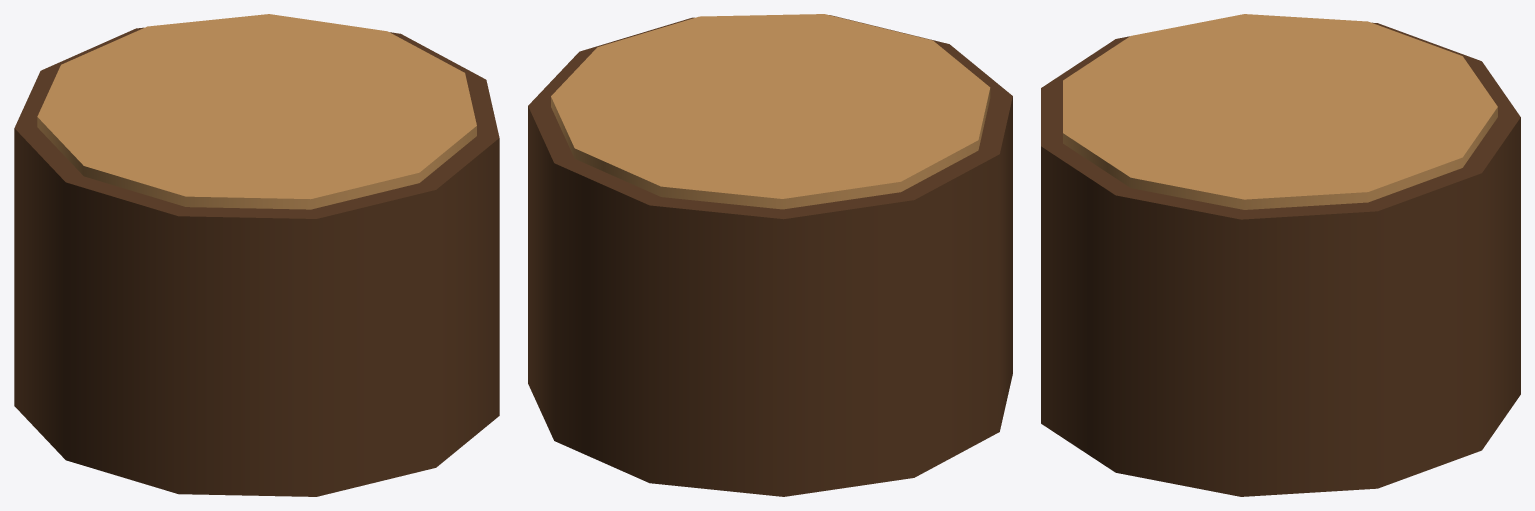
Rendered from stump.glb.
The picture shows the model from 3 angles, left to right: view 1: azimuth 30°, elevation 25°; view 2: azimuth 150°, elevation 25°; view 3: azimuth 270°, elevation 25°; orthographic projection.
Visible parts, largest first — view 1: stump; view 2: stump; view 3: stump.
Part boxes in pixels (x1,y1,x2,y2): stump: (14,14,499,496); stump: (528,14,1012,496); stump: (1041,14,1520,496).
Bounding box in the file's own units: 0.6335 × 0.415 × 0.627.
